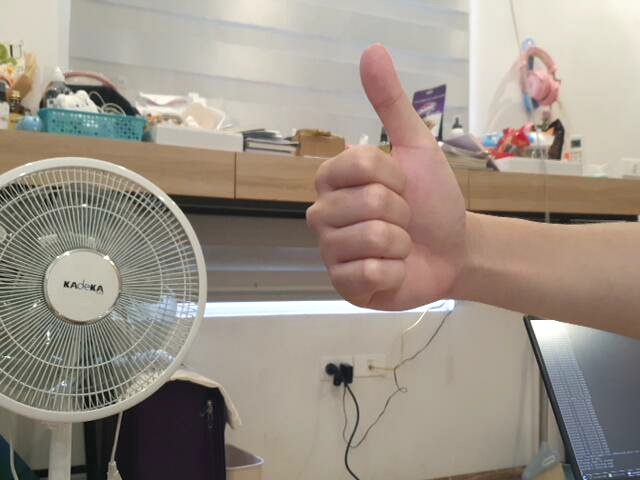ThumbsUp: (303, 38, 473, 318)
